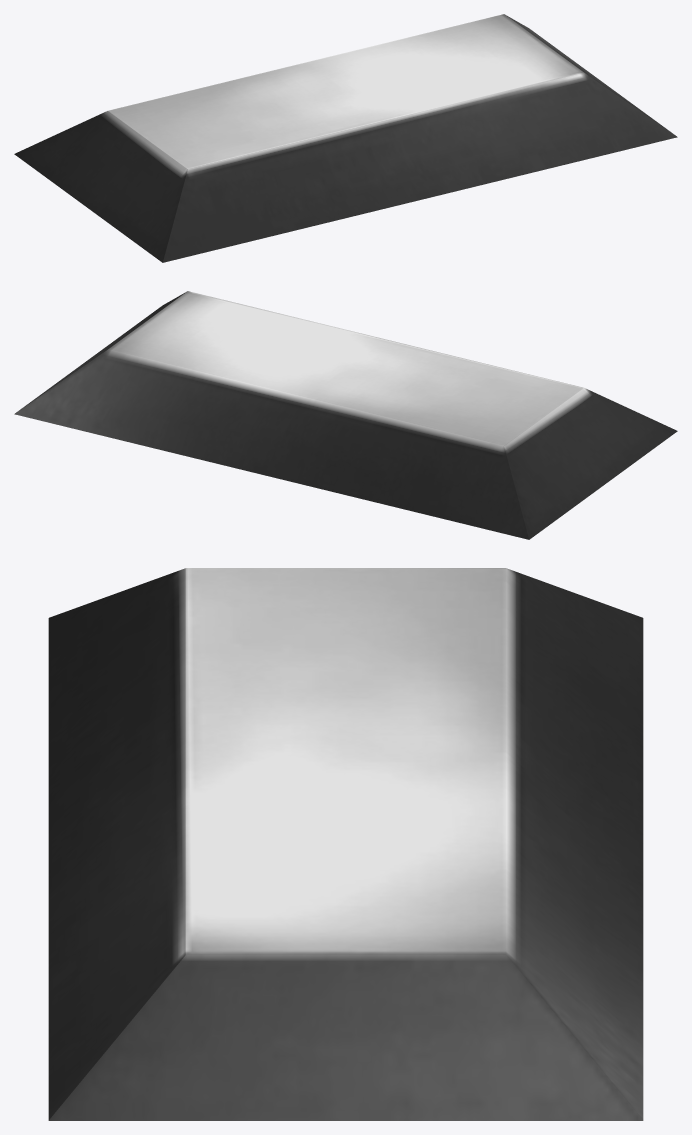
The model's file is Decor_Light_Strip.FBX.
3 renders of one model, top to bottom at view 1: azimuth 30°, elevation 25°; view 2: azimuth 150°, elevation 25°; view 3: azimuth 270°, elevation 25°, orthographic. The views are drawn at different scales.
Parts seen in each view (by area): view 1: Decor_Light_Strip; view 2: Decor_Light_Strip; view 3: Decor_Light_Strip.
Part boxes in pixels (x1=…): Decor_Light_Strip: x1=14, y1=14, x2=677, y2=262; Decor_Light_Strip: x1=14, y1=291, x2=677, y2=539; Decor_Light_Strip: x1=48, y1=568, x2=643, y2=1120.
Bounding box in the file's own units: 1 × 0.1 × 0.5.
